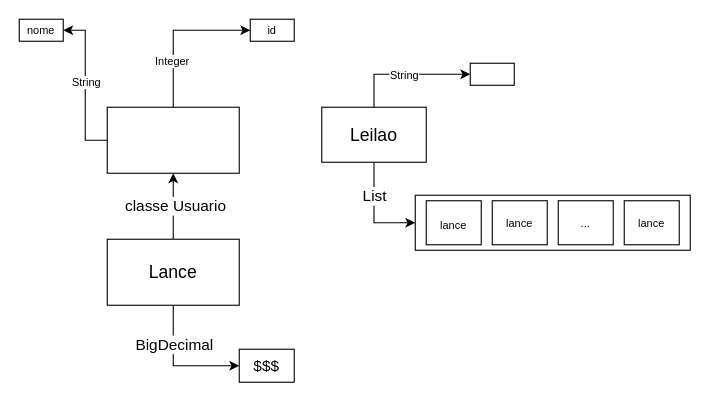
Image size: 710x402. Some labels were removed from this diagram. The shapes that lost their labels are listed below. From the top down, each one's box as (x1, y1, x2, y2) in pixels, then its label:
(469, 62, 514, 85): Item
(106, 106, 239, 173): Usuario
